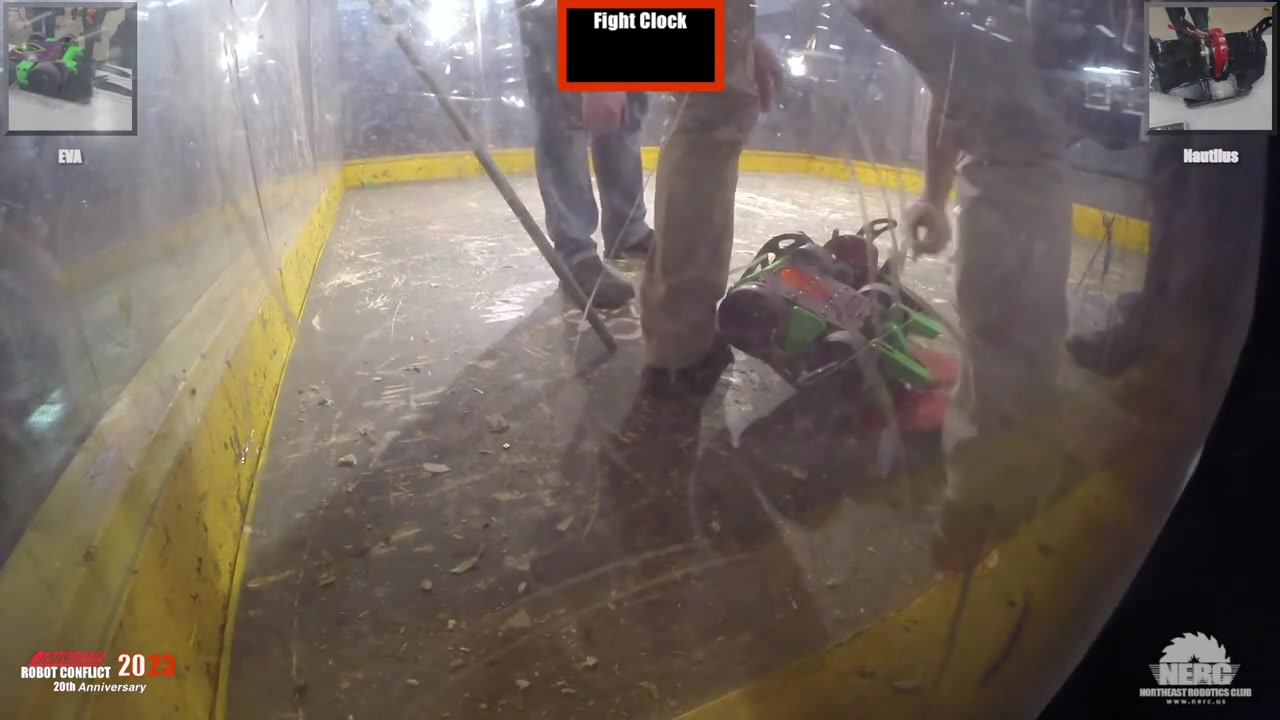combatbot: (718, 242, 901, 394)
